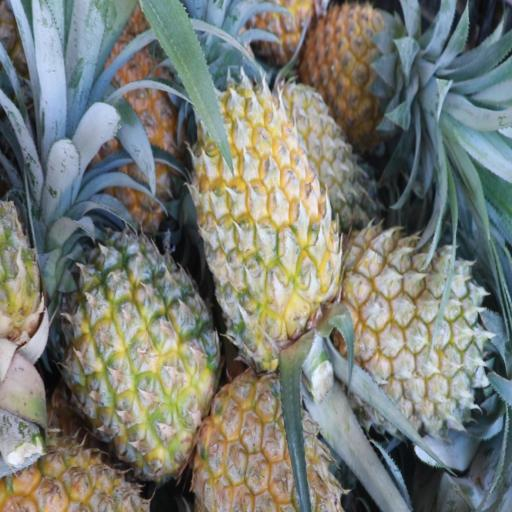------------------------------: (52, 220, 222, 488)
Pineapple - v8 v1: (184, 32, 344, 378), (336, 219, 508, 439), (308, 4, 447, 154)
